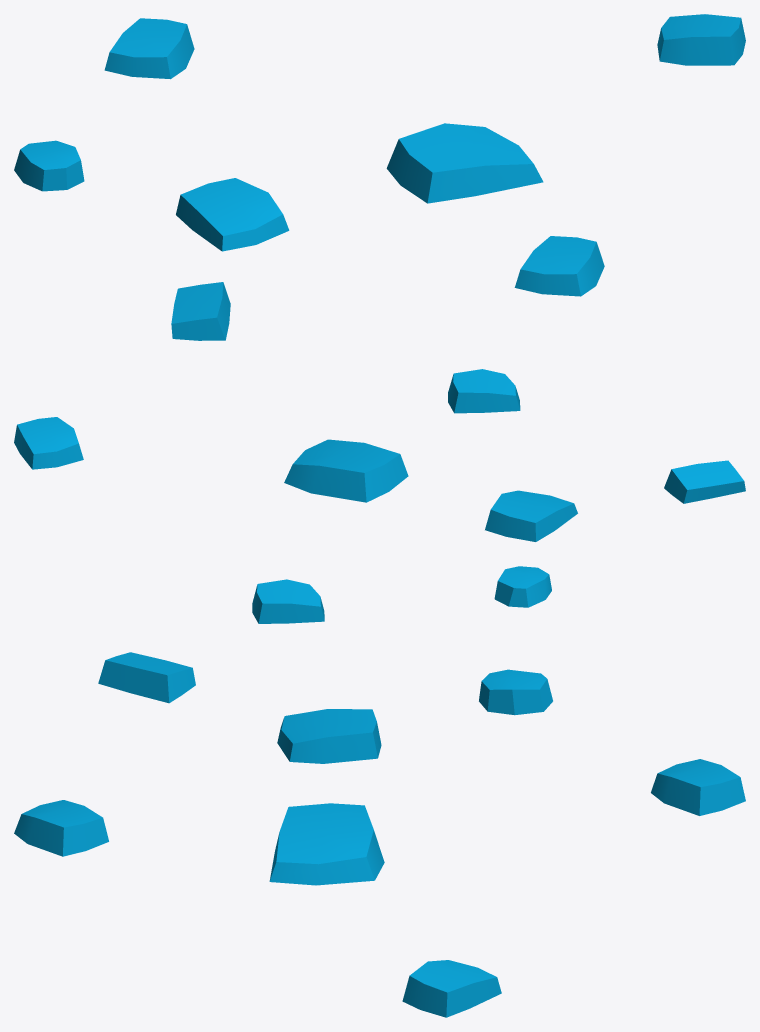
The model's file is Debris_Concrete_04.fbx.
3 views of the same model, one above another, from view 1: azimuth 30°, elevation 25°; view 2: azimuth 150°, elevation 25°; view 3: azimuth 270°, elevation 25° (orthographic). The views are drawn at different scales.
Parts seen in each view (by area): view 1: Debris_Concrete_04; view 2: Debris_Concrete_04; view 3: Debris_Concrete_04.
Part boxes in pixels (<box>): Debris_Concrete_04: <box>14,14,745,340</box>; Debris_Concrete_04: <box>14,369,745,623</box>; Debris_Concrete_04: <box>14,652,745,1017</box>.
Size of the model in its own units: 86.15 by 3.5 by 75.77.
